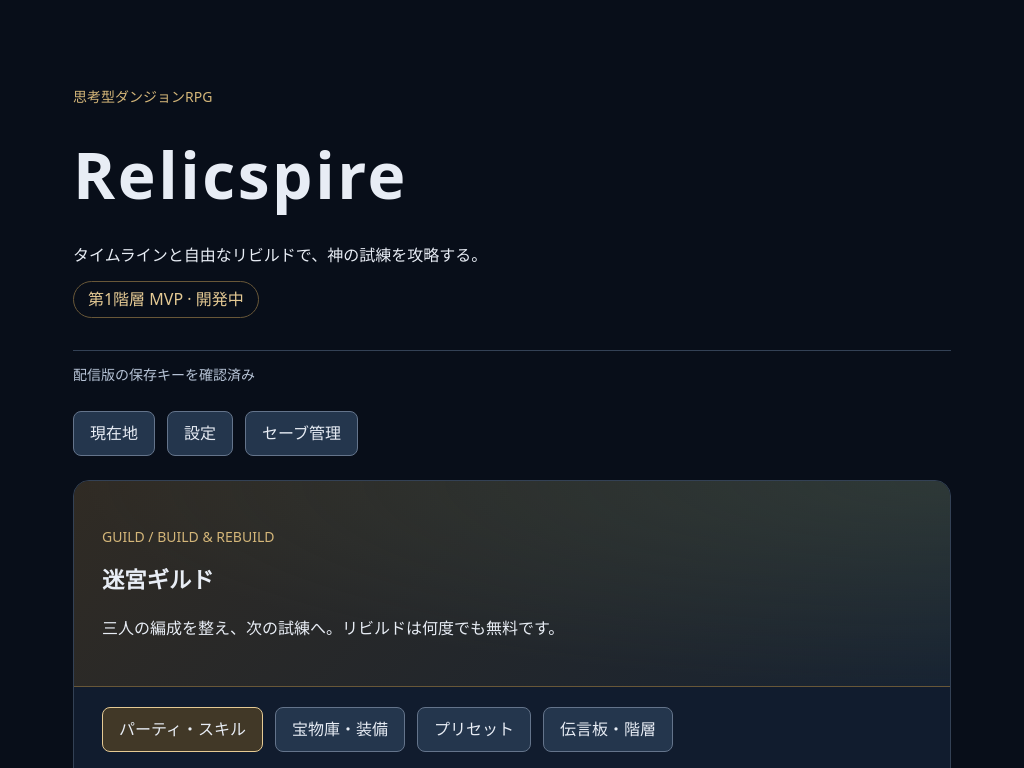
Test: 伝言板・階層ワープ › 解放済みでも未収録の階層は理由を表示してワープを禁止する
What coordinates should you click on to do the following:
click the button "伝言板・階層"
I would click on:
 (608, 730)
Its box is [543,707,673,752].
(page scrolled)
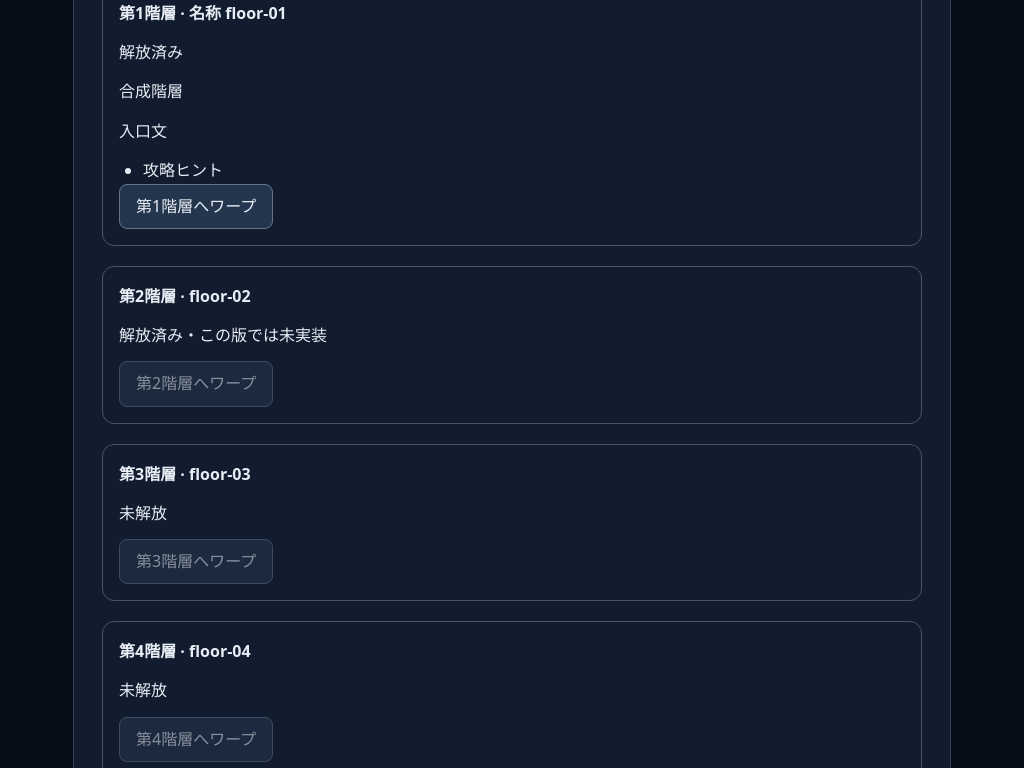
Check: the text "解放済み・この版では未実装" is shown, box [119,324,327,346]
Check: the button "第2階層へワープ" is disabled, box [119,361,273,407]
